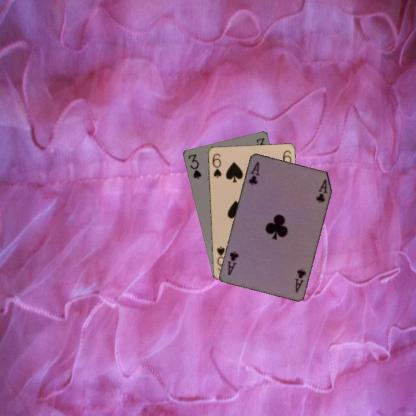3s: (186, 152, 202, 180)
6s: (210, 151, 222, 179)
Ac: (245, 159, 262, 186), (292, 266, 307, 293)
